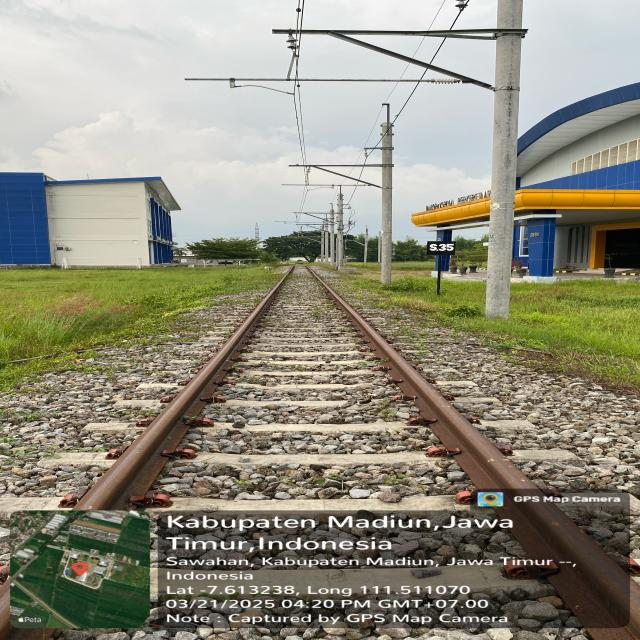rail-detection: (74, 266, 295, 510), (308, 269, 534, 489)
